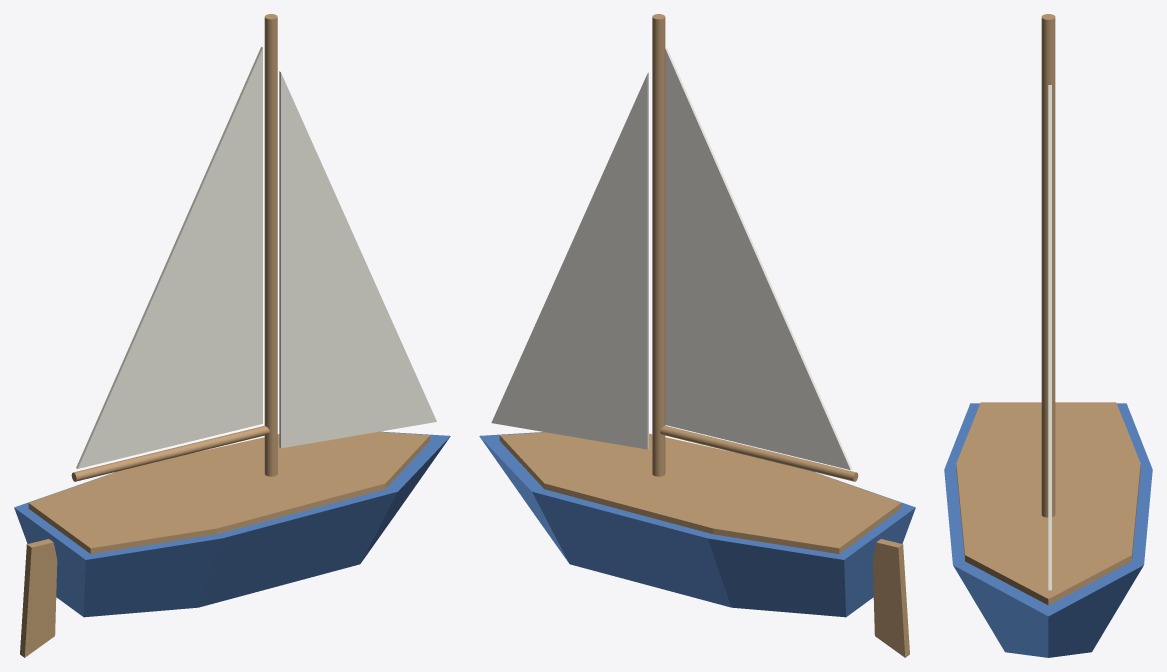
Rendered from sailboat.glb.
3 views of the same model, side by side, from view 1: azimuth 30°, elevation 25°; view 2: azimuth 150°, elevation 25°; view 3: azimuth 270°, elevation 25° (orthographic). The views are drawn at different scales.
Visible parts, largest first — view 1: MainSail, JibSail, Deck, Hull, Mast, Rudder, Boom; view 2: MainSail, JibSail, Deck, Hull, Mast, Rudder, Boom; view 3: Deck, Hull, Mast, JibSail.
Part boxes in pixels (x1,y1,x2,y2): MainSail: (76, 46, 262, 468); JibSail: (279, 71, 436, 448); Deck: (28, 432, 430, 553); Hull: (14, 431, 450, 617); Mast: (264, 14, 277, 476); Rudder: (20, 539, 57, 657); Boom: (71, 425, 269, 481); MainSail: (665, 48, 851, 470); JibSail: (491, 72, 648, 449); Deck: (499, 432, 901, 553); Hull: (479, 432, 915, 617); Mast: (652, 14, 665, 476); Rudder: (872, 539, 909, 657); Boom: (660, 425, 858, 481); Deck: (956, 402, 1140, 605); Hull: (944, 403, 1152, 657); Mast: (1041, 14, 1055, 517); JibSail: (1048, 85, 1051, 590).
Size of the model in its own units: 3.1 by 4 by 1.2.
